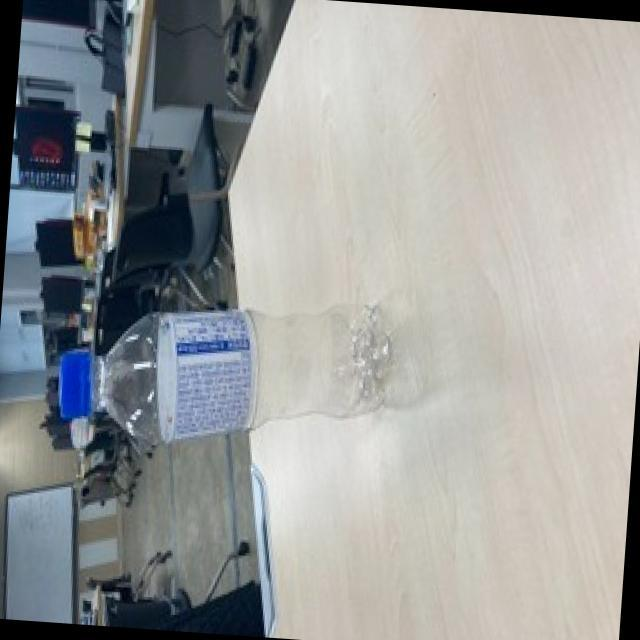good: (47, 280, 399, 462)
